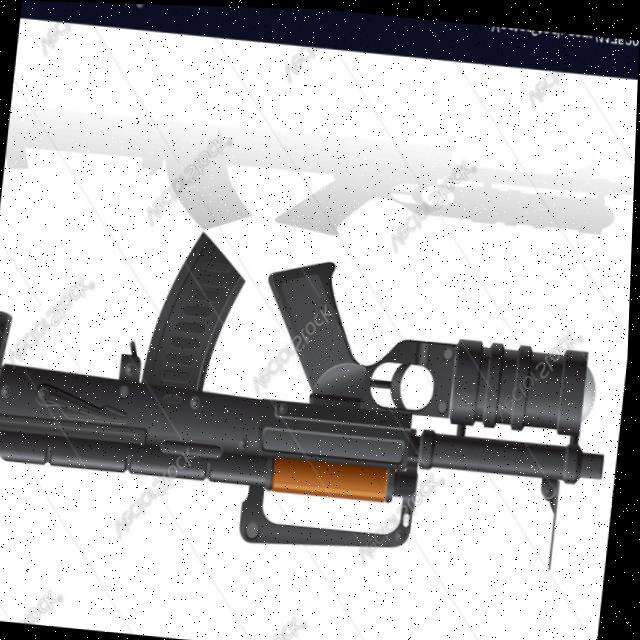firearm: (0, 214, 626, 576)
rocket: (361, 322, 607, 439)
